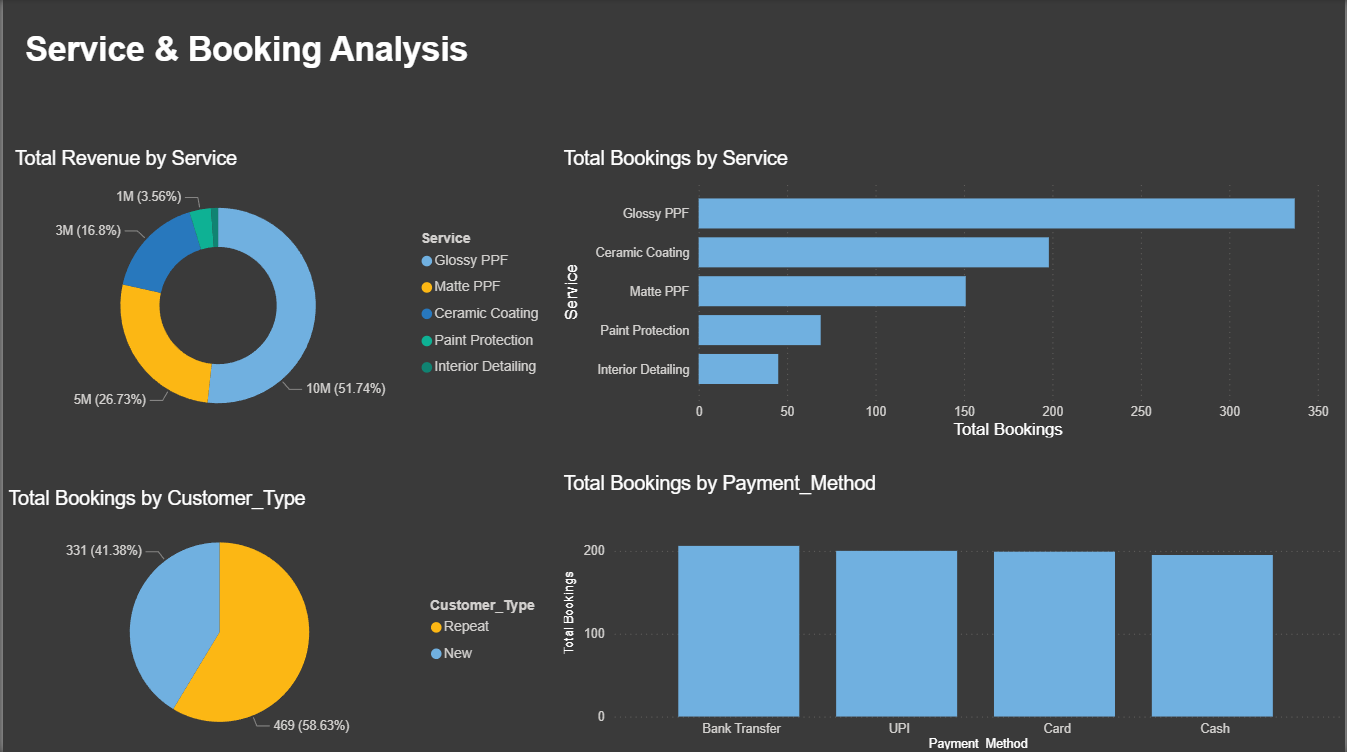

What the dashboard file says about the page in this screenshot:
{"tool":"powerbi","page":{"name":"Service Analysis","canvas":[1280,720],"ordinal":1},"visuals":[{"type":"donutChart","fields":{"Category":["Sheet1.Service"],"Y":["Sheet1.Total Revenue"]},"box":[6.3,140.8,518.8,280.3],"z":0},{"type":"clusteredBarChart","fields":{"Category":["Sheet1.Service"],"Y":["Sheet1.Total Bookings"]},"box":[529,140.8,739.5,281.6],"z":1},{"type":"pieChart","fields":{"Category":["Sheet1.Customer_Type"],"Y":["Sheet1.Total Bookings"]},"box":[0,465.5,529,255],"z":2},{"type":"clusteredColumnChart","fields":{"Category":["Sheet1.Payment_Method"],"Y":["Sheet1.Total Bookings"]},"box":[529,451.6,750.9,268.9],"z":3},{"type":"textbox","box":[16.5,25.4,553.1,68.5],"z":4}]}

Visuals, with their boxes in screenshot pixels (x1, y1, x2, y2), scaled from the page's 1280x720 canvas onto the 1347x752 screenshot:
donutChart - Sheet1.Service x Sheet1.Total Revenue: locate(7, 147, 553, 440)
clusteredBarChart - Sheet1.Service x Sheet1.Total Bookings: locate(557, 147, 1335, 441)
pieChart - Sheet1.Customer_Type x Sheet1.Total Bookings: locate(0, 486, 557, 751)
clusteredColumnChart - Sheet1.Payment_Method x Sheet1.Total Bookings: locate(557, 472, 1346, 751)
textbox: locate(17, 27, 599, 98)
